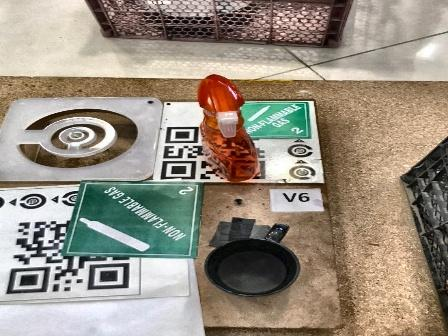non-flammable-gas: (62, 182, 205, 257), (233, 101, 309, 137)
